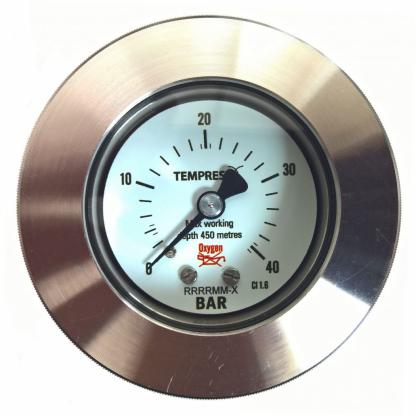needle: (146, 212, 206, 272)
